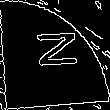N_W: (30, 33, 80, 77)
